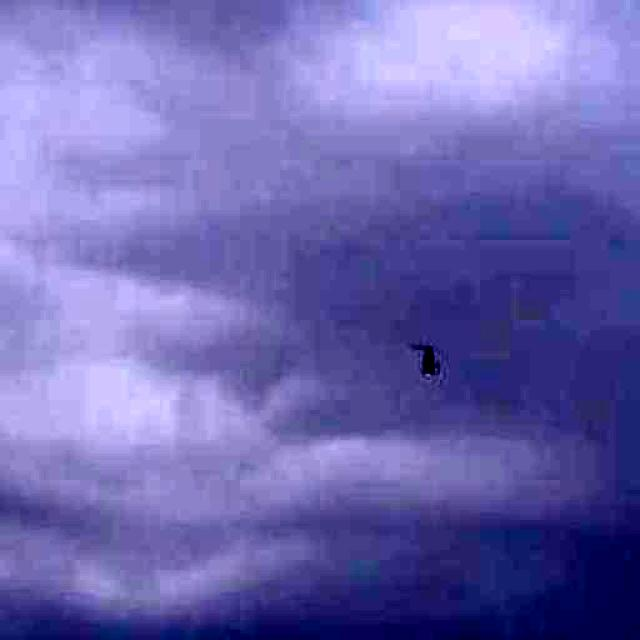drone: (390, 319, 466, 398)
